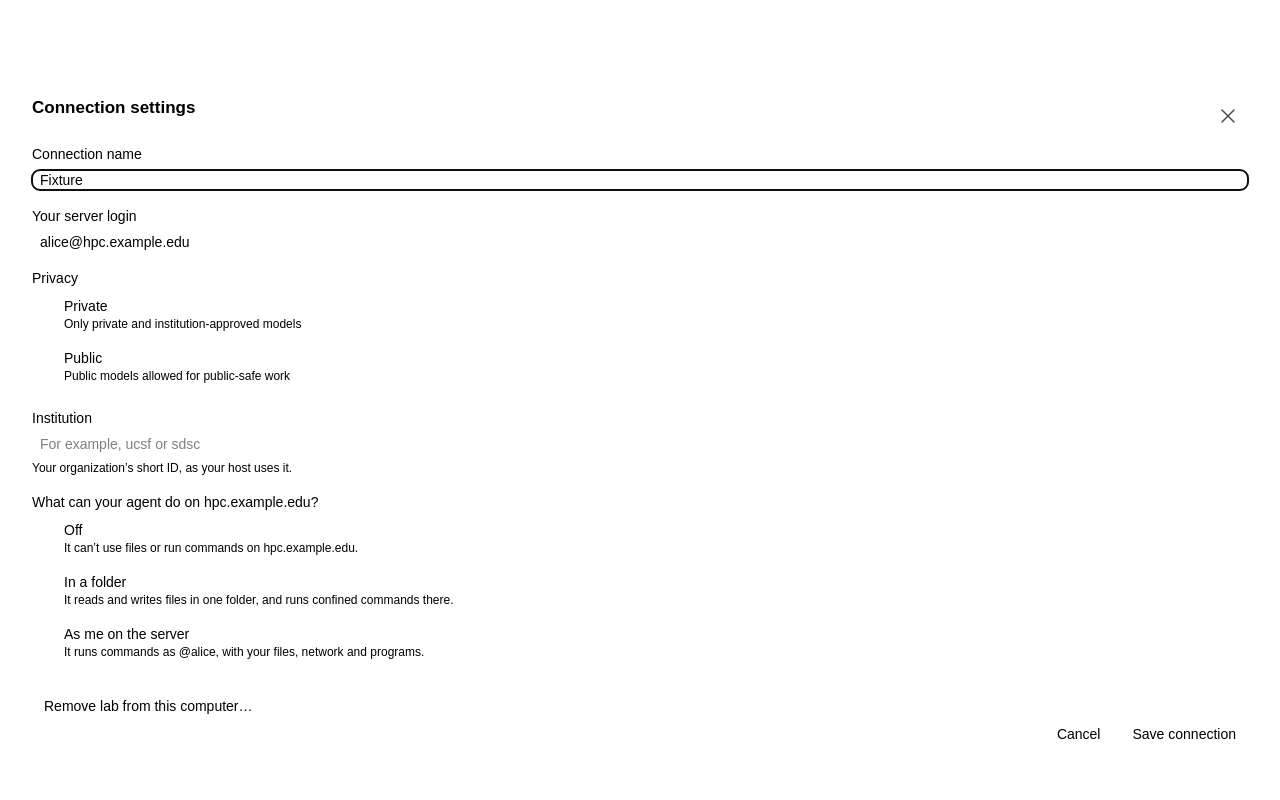
it: ConnectionSettingsDialog › shows the institution helper only while the field is empty
This screenshot has width=1280, height=800.
Expected: the text "Your organization’s short ID, as your host uses it." is shown, [32, 461, 292, 475]
Type "ucsf" into the field with placeholder "For example, ucsf or sdsc".
click(640, 444); type("ucsf")  # box [32, 434, 1248, 454]
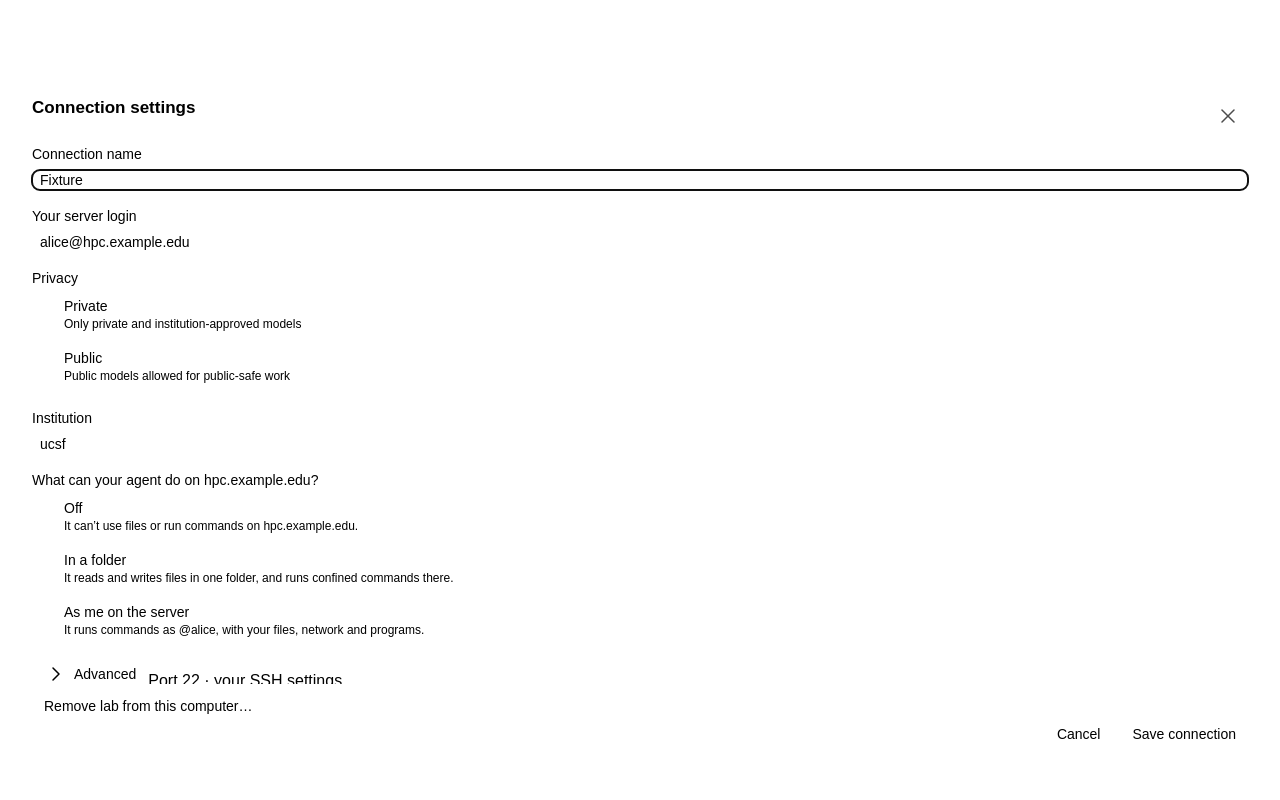
Expected: the text "Your organization’s short ID, as your host uses it." is gone
